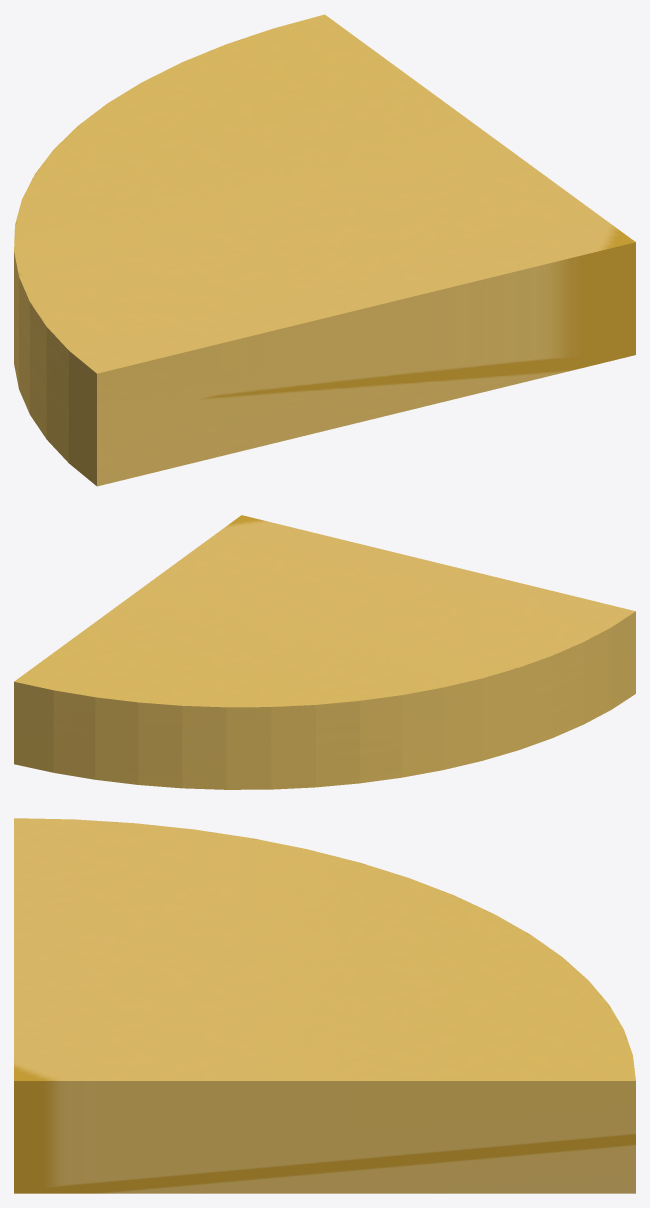
The model's file is StartFinishStep.fbx.
3 renders of one model, top to bottom at view 1: azimuth 30°, elevation 25°; view 2: azimuth 150°, elevation 25°; view 3: azimuth 270°, elevation 25°, orthographic. The views are drawn at different scales.
Visible parts, largest first — view 1: Cylinder; view 2: Cylinder; view 3: Cylinder.
Boxes of the visible parts, left/top/right/bottom form: Cylinder: left=14, top=14, right=635, bottom=486; Cylinder: left=14, top=515, right=635, bottom=789; Cylinder: left=14, top=818, right=635, bottom=1193.
Bounding box in the file's own units: 100 × 20 × 100.
